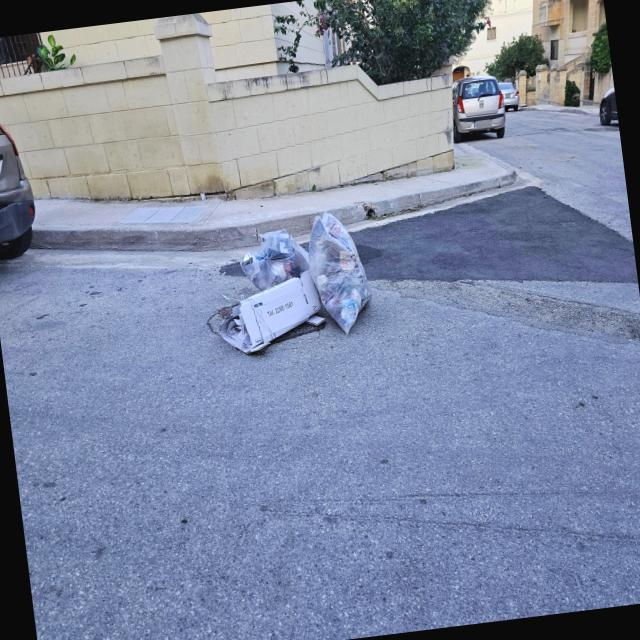grey_bag: (302, 206, 378, 339), (236, 227, 310, 287)
other_waste: (212, 270, 326, 358)
